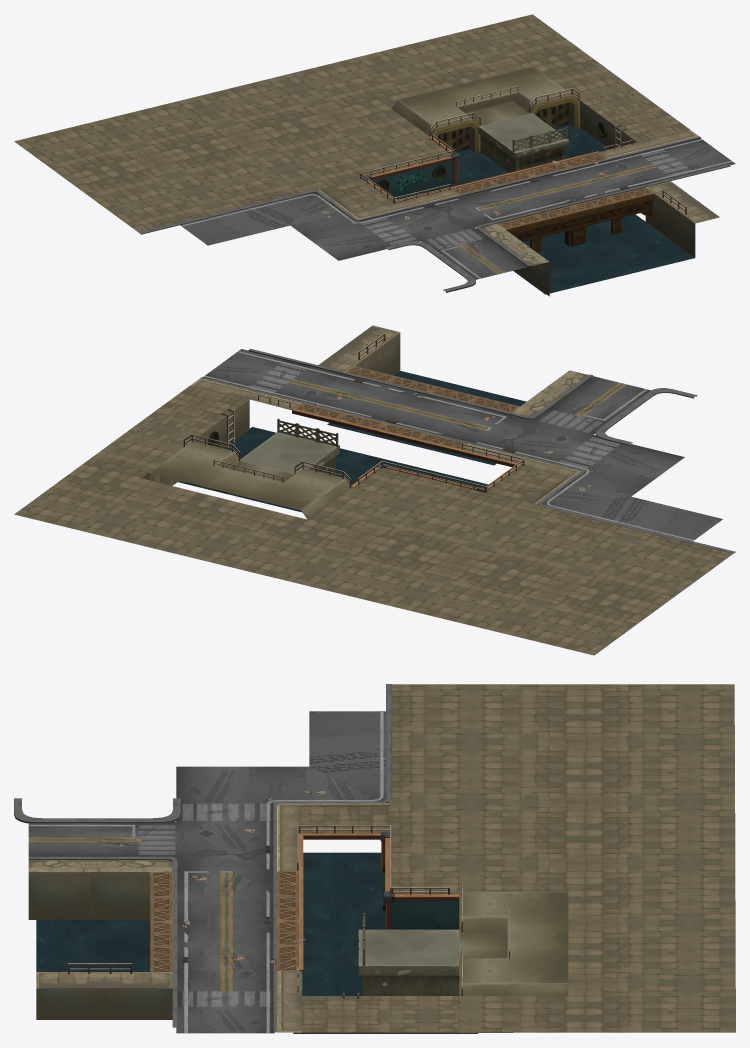
3 renders of one model, top to bottom at view 1: azimuth 30°, elevation 25°; view 2: azimuth 150°, elevation 25°; view 3: azimuth 270°, elevation 25°, orthographic. The views are drawn at different scales.
Parts seen in each view (by area): view 1: dm_ml08, dm_ml02 (×7), dm_ml04 (×3), dm_ml07, dm_ml05, dm_ml03 (×3), dm_ml01, dm_ml06; view 2: dm_ml08, dm_ml02 (×7), dm_ml04 (×3), dm_ml05, dm_ml01, dm_ml07, dm_ml03 (×2), dm_ml06; view 3: dm_ml08, dm_ml02 (×8), dm_ml04 (×3), dm_ml07, dm_ml05, dm_ml01, dm_ml06, dm_ml03 (×3).
Part boxes in pixels (x1,y1,x2,y2): dm_ml08: [14, 14, 632, 232]; dm_ml02 (×7): [138, 136, 735, 292]; dm_ml04 (×3): [318, 88, 719, 296]; dm_ml07: [316, 124, 694, 294]; dm_ml05: [392, 66, 579, 152]; dm_ml03 (×3): [372, 153, 653, 252]; dm_ml01: [358, 196, 494, 250]; dm_ml06: [478, 113, 569, 172]; dm_ml08: [14, 432, 732, 655]; dm_ml02 (×7): [201, 349, 735, 553]; dm_ml04 (×3): [127, 325, 588, 504]; dm_ml05: [143, 441, 351, 519]; dm_ml01: [471, 409, 621, 470]; dm_ml07: [178, 371, 538, 512]; dm_ml03 (×2): [295, 366, 519, 449]; dm_ml06: [240, 432, 339, 475]; dm_ml08: [388, 684, 735, 1033]; dm_ml02 (×8): [14, 684, 391, 1033]; dm_ml04 (×3): [28, 803, 459, 1033]; dm_ml07: [36, 852, 478, 1033]; dm_ml05: [459, 891, 568, 995]; dm_ml01: [138, 803, 273, 872]; dm_ml06: [358, 929, 459, 995]; dm_ml03 (×3): [150, 871, 459, 971].
Size of the model in its own units: 14221 by 12456 by 1289.
